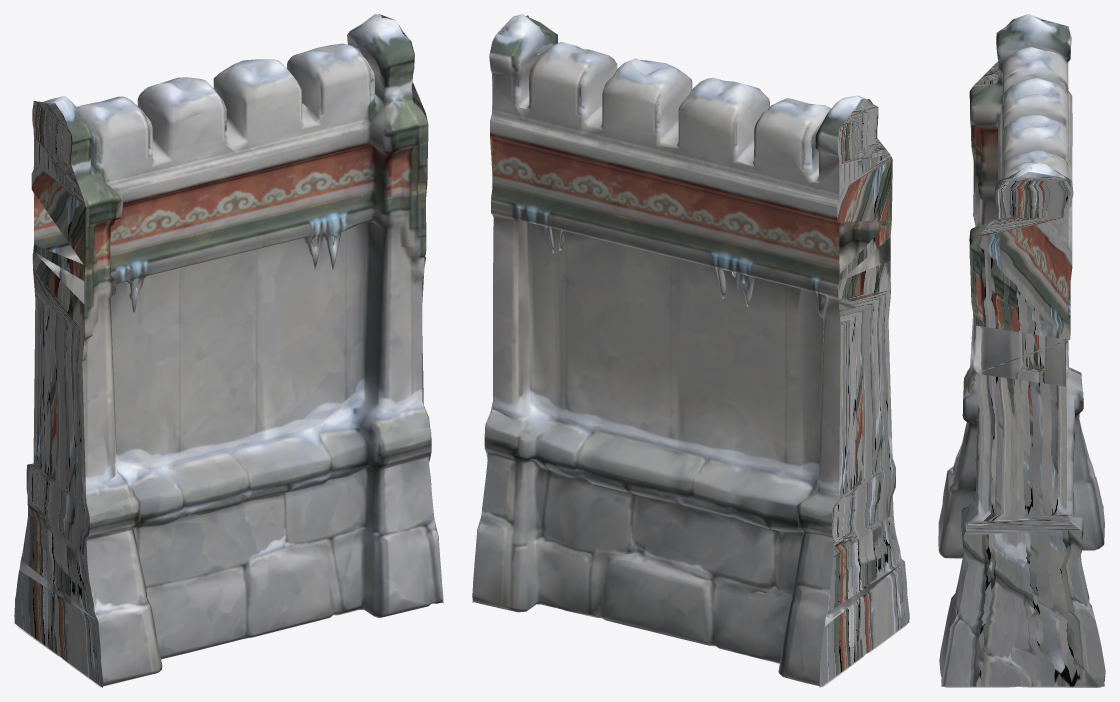
File: SM_Tripo_FrostRampartPanel.glb
The picture shows the model from 3 angles, left to right: view 1: azimuth 30°, elevation 25°; view 2: azimuth 150°, elevation 25°; view 3: azimuth 270°, elevation 25°; orthographic projection. The views are drawn at different scales.
Parts seen in each view (by area): view 1: SM_Tripo_FrostRampartPanel_LOD0; view 2: SM_Tripo_FrostRampartPanel_LOD0; view 3: SM_Tripo_FrostRampartPanel_LOD0.
Part boxes in pixels (bbox=[...]): SM_Tripo_FrostRampartPanel_LOD0: bbox=[14, 14, 443, 687]; SM_Tripo_FrostRampartPanel_LOD0: bbox=[472, 14, 909, 687]; SM_Tripo_FrostRampartPanel_LOD0: bbox=[938, 14, 1105, 687].
Size of the model in its own units: 5.7 by 8.82 by 2.57.
1 material, 1 textured.
